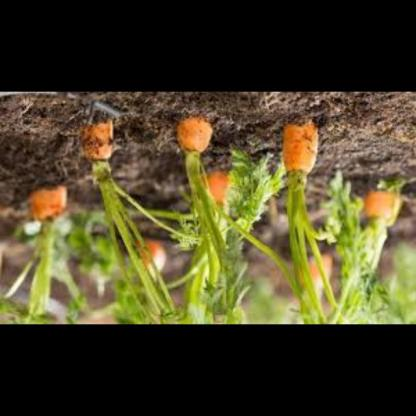carrot: (22, 172, 75, 228), (78, 110, 118, 166), (355, 188, 404, 227), (284, 122, 319, 176), (134, 236, 173, 277), (201, 172, 238, 214), (177, 114, 216, 153)
